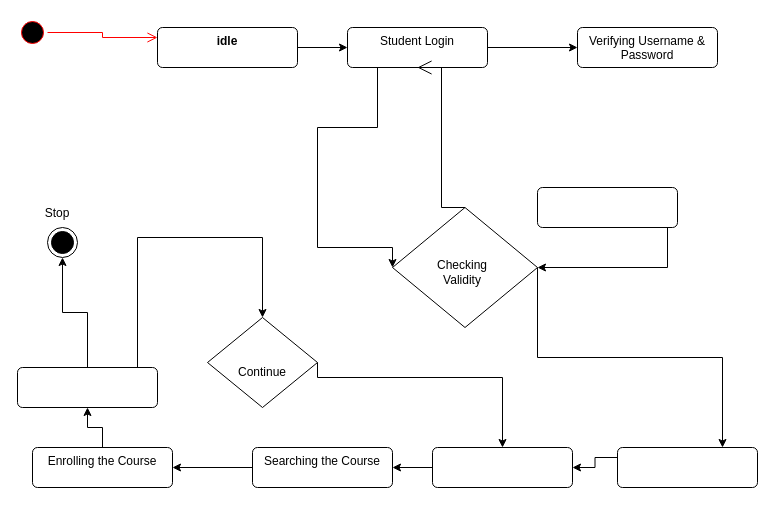
The diagram is 775 pixels wide and 505 high, and some of its shapes have lost their labels. The box of each missing label's shape, as (x1, y1, x2, y2) in pixels:
Logout: (16, 366, 158, 408)
Searching For Username & Password: (536, 186, 678, 228)
Searching the Course Category: (432, 446, 572, 488)
Successful Login: (616, 446, 758, 488)
